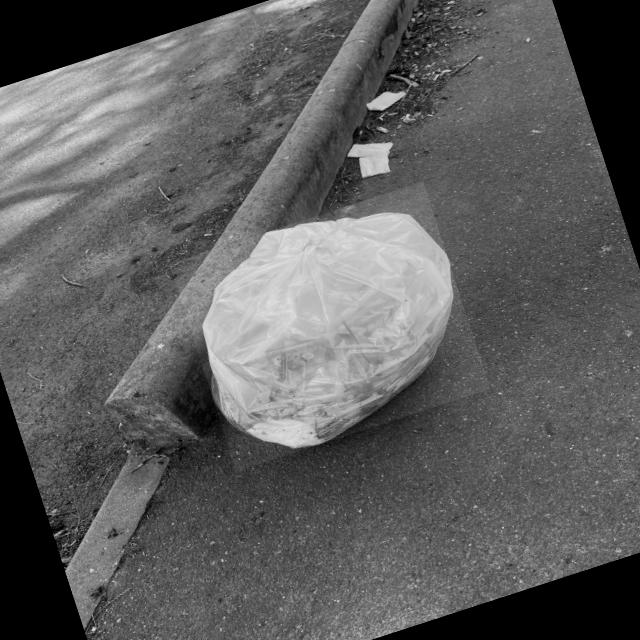Garbage bag: (202, 212, 454, 448)
